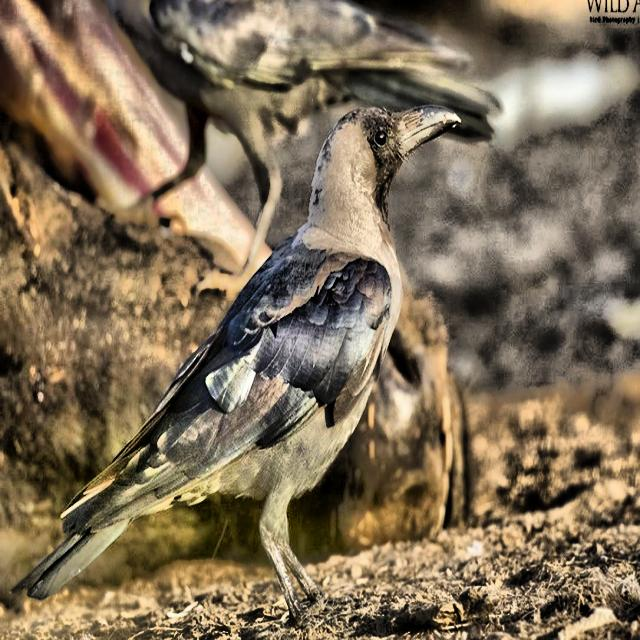crow: (13, 101, 474, 630)
